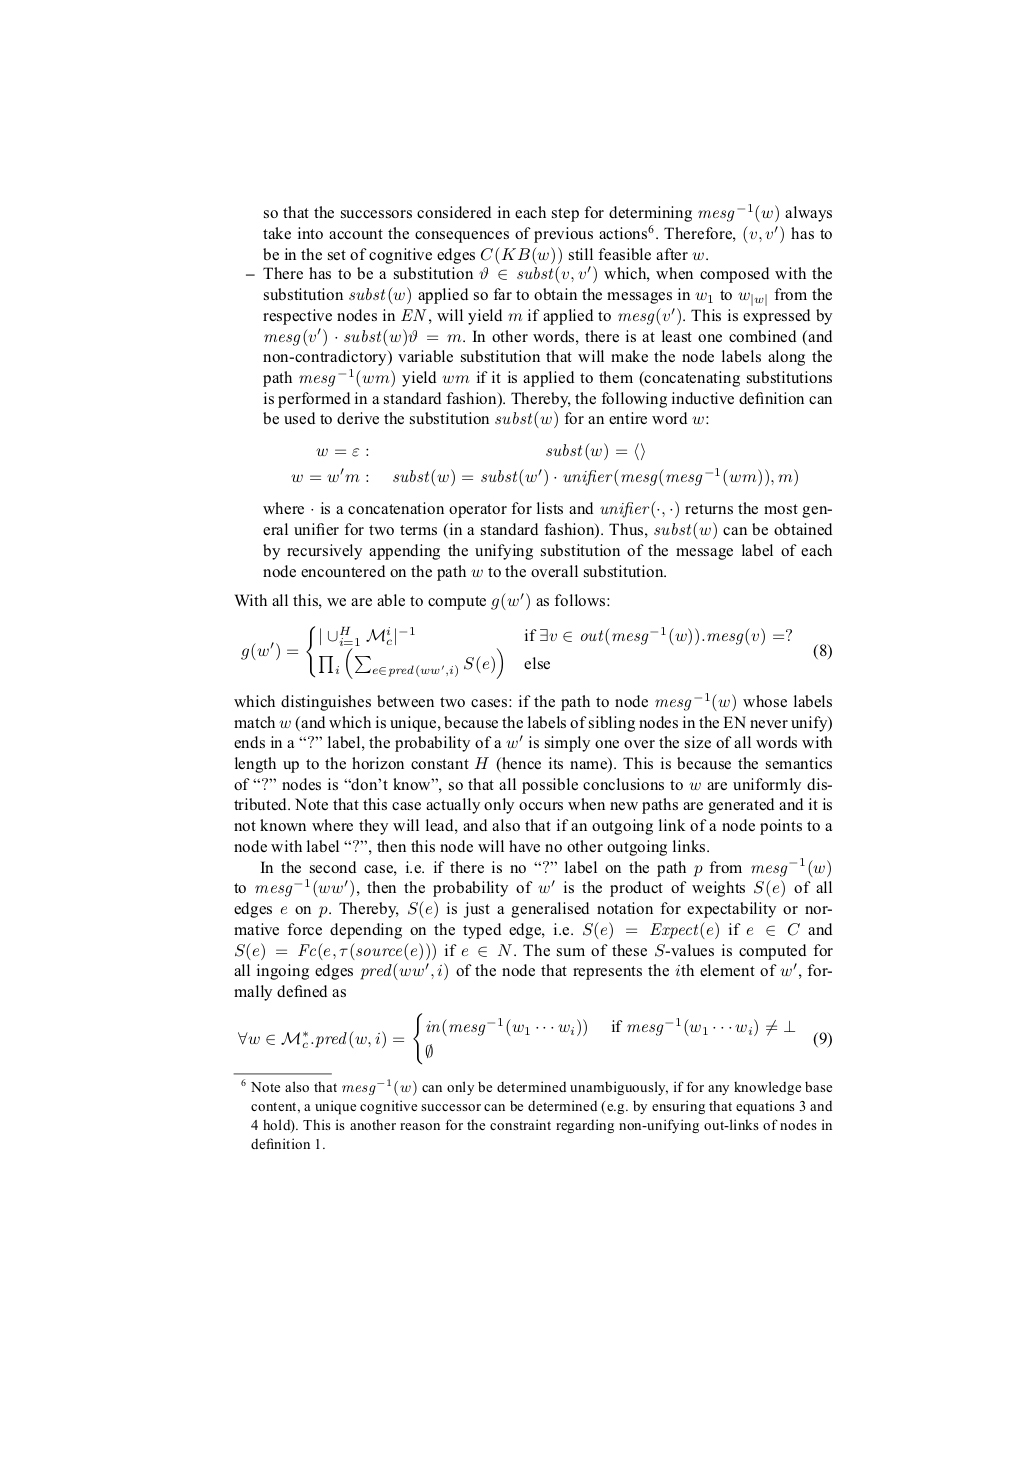formula: (241, 625, 831, 679), (238, 1012, 831, 1065), (291, 467, 797, 487), (316, 442, 644, 461)
